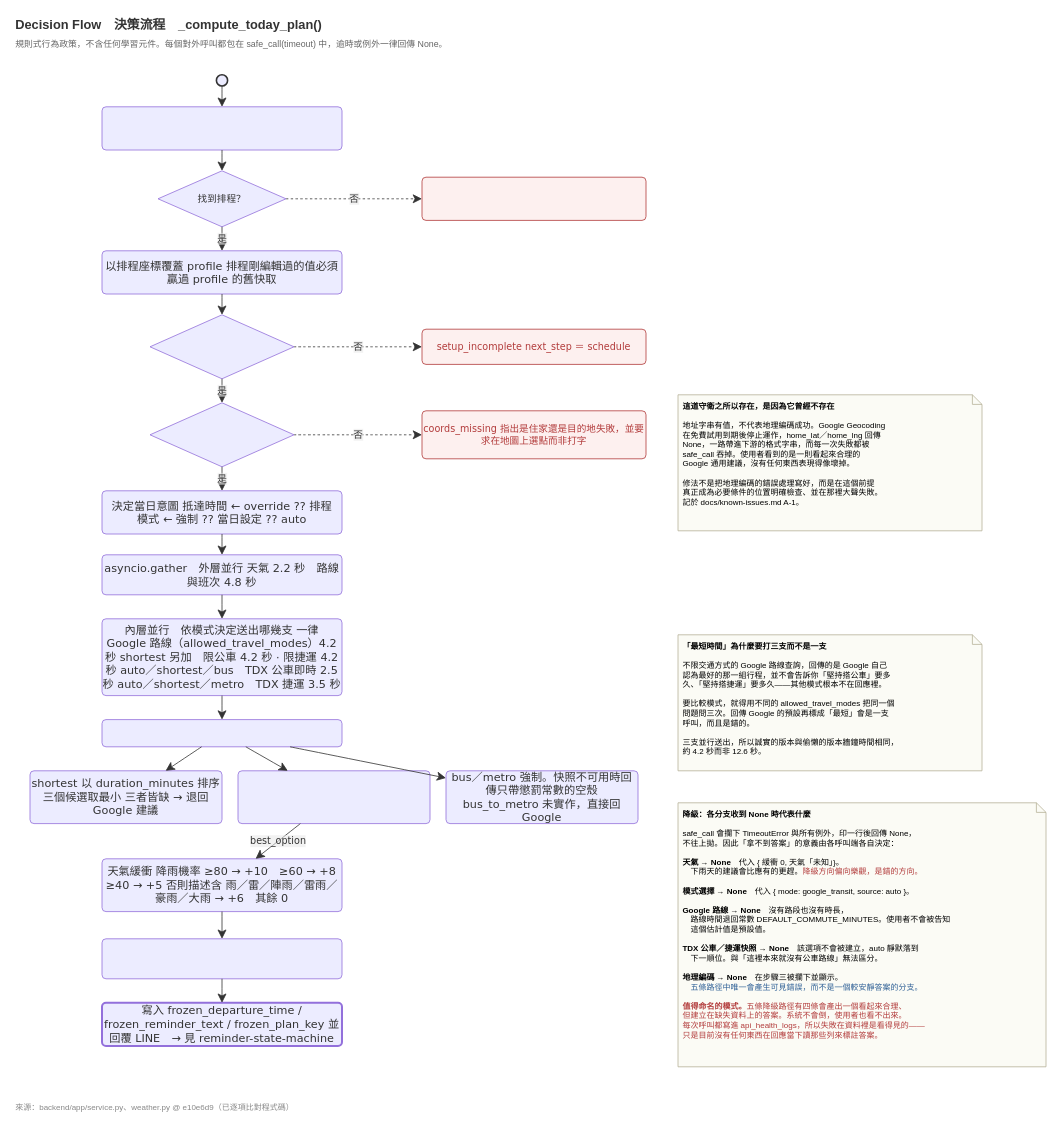
This 1060x1128 diagram has some shape labels left out. The shapes that lost their labels are listed below. From the top down, each one's centre as x and y in pixels, then its label:
point 221,128: 解析排程 依星期與 is_active 篩選，再取 schedule_id 或第一筆
point 533,198: no_schedule_for_date 依日期回覆今天／明天／該日無排程
point 221,346: 起點、終點、 抵達時間齊全？
point 221,434: 四個座標 皆非 NULL？
point 221,733: 模式選擇
point 333,797: auto 捷運 → 公車 → Google，取第一個能建立的 不比較、不評分
point 221,958: 出發時間 latest_on_time ＝ 抵達 −（路線時間 ＋ 天氣緩衝）
